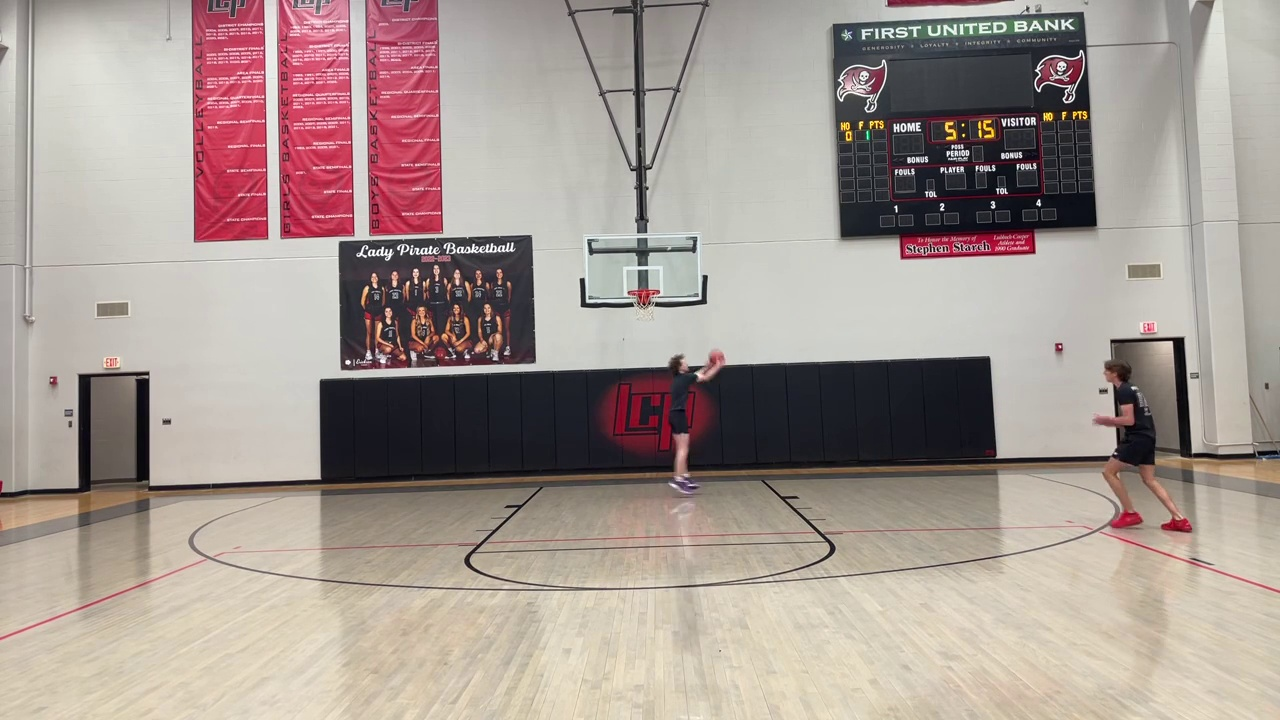shooting player: (664, 348, 727, 495)
